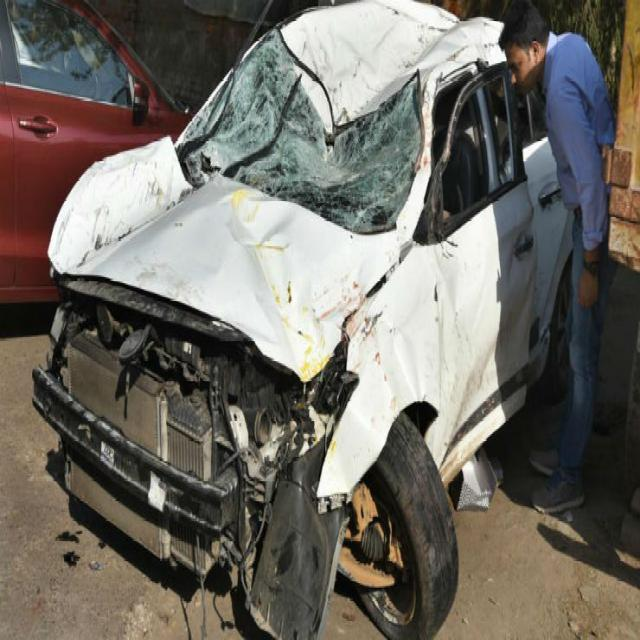accident: (32, 0, 570, 638)
